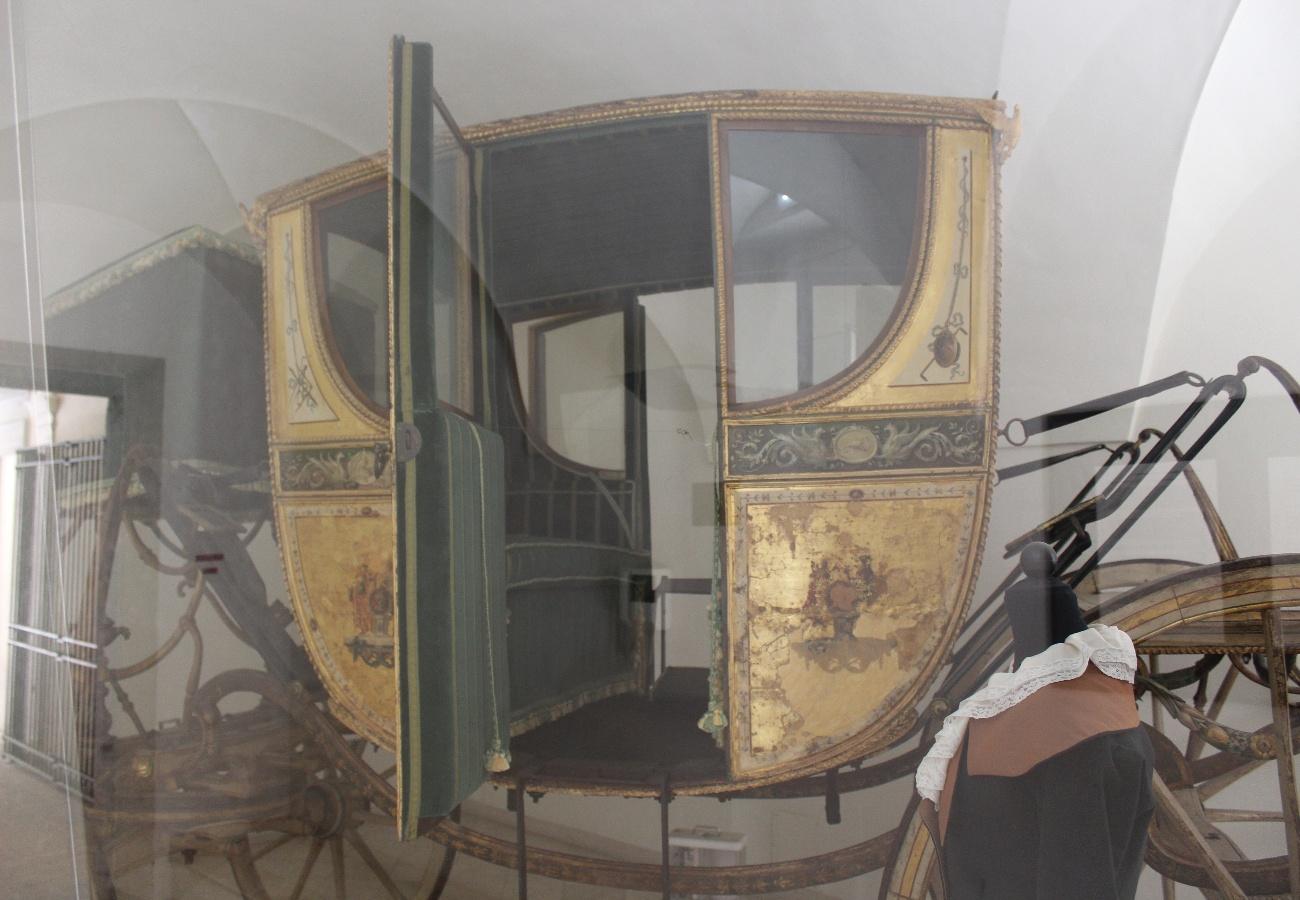Berlina Mosca: (1, 29, 1300, 900)
